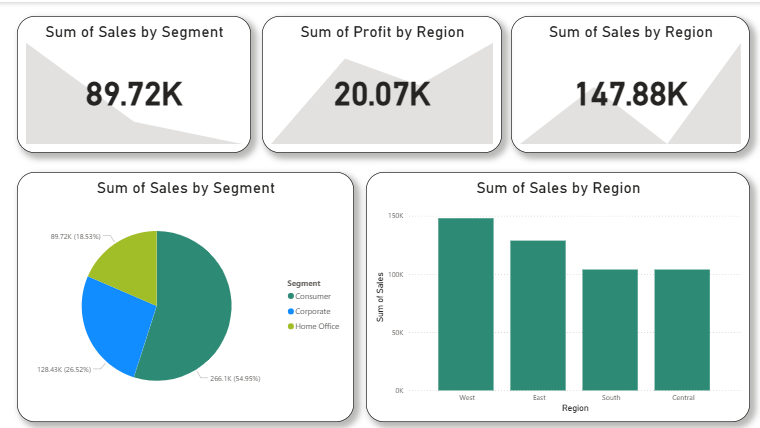

This screenshot's page, from the dashboard's own definition file:
{"tool":"powerbi","page":{"name":"Home","canvas":[1280,720],"ordinal":1},"visuals":[{"type":"kpi","fields":{"Indicator":["Sum(Sheet1.Sales)"],"TrendLine":["Sheet1.Region"]},"box":[860.1,23.5,401.5,230.1],"z":0},{"type":"kpi","fields":{"Indicator":["Sum(Sheet1.Profit)"],"TrendLine":["Sheet1.Region"]},"box":[441.8,23.5,403.1,230.1],"z":1000},{"type":"kpi","fields":{"Indicator":["Sum(Sheet1.Sales)"],"TrendLine":["Sheet1.Segment"]},"box":[30.2,23.5,393.1,230.1],"z":2000},{"type":"pieChart","fields":{"Category":["Sheet1.Segment"],"Y":["Sum(Sheet1.Sales)"]},"box":[30.2,285.6,566.1,419.9],"z":3000},{"type":"lineStackedColumnComboChart","fields":{"Y":["Sum(Sheet1.Sales)"],"Category":["Sheet1.Region"]},"box":[616.5,285.6,645,419.9],"z":4000}]}

Visuals, with their boxes in screenshot pixels (x1, y1, x2, y2), scaled from the page's 1280x720 canvas onto the 760x428 screenshot:
kpi - Sum(Sheet1.Sales) x Sheet1.Region: 511:14:749:151
kpi - Sum(Sheet1.Profit) x Sheet1.Region: 262:14:502:151
kpi - Sum(Sheet1.Sales) x Sheet1.Segment: 18:14:251:151
pieChart - Sheet1.Segment x Sum(Sheet1.Sales): 18:170:354:419
lineStackedColumnComboChart - Sum(Sheet1.Sales) x Sheet1.Region: 366:170:749:419
